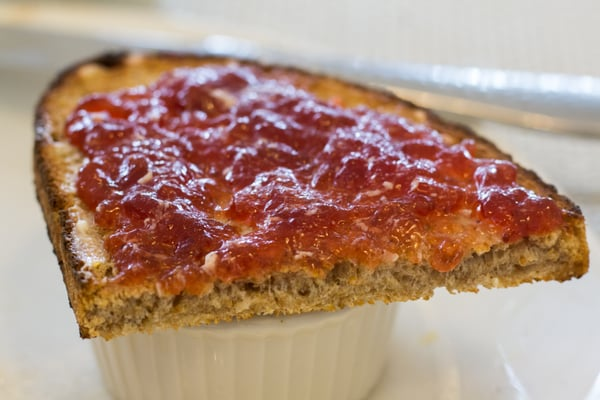sandwich: (35, 56, 597, 334)
